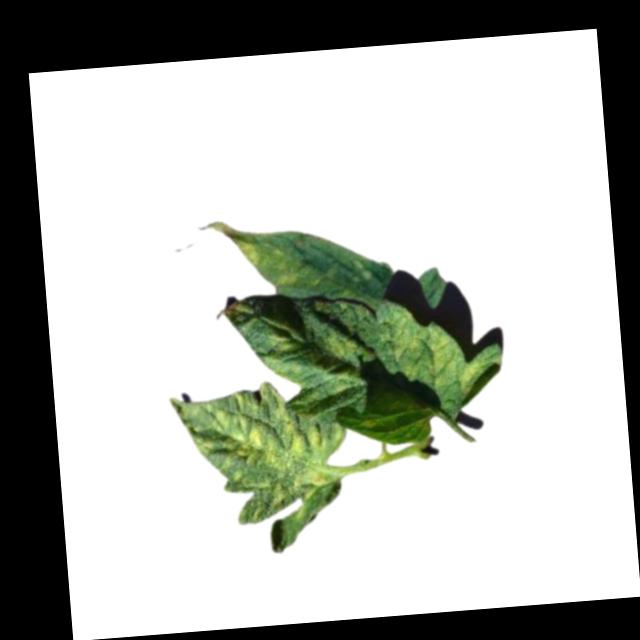Leaf_Mold: (167, 377, 354, 530), (389, 298, 503, 399), (203, 215, 309, 294)
